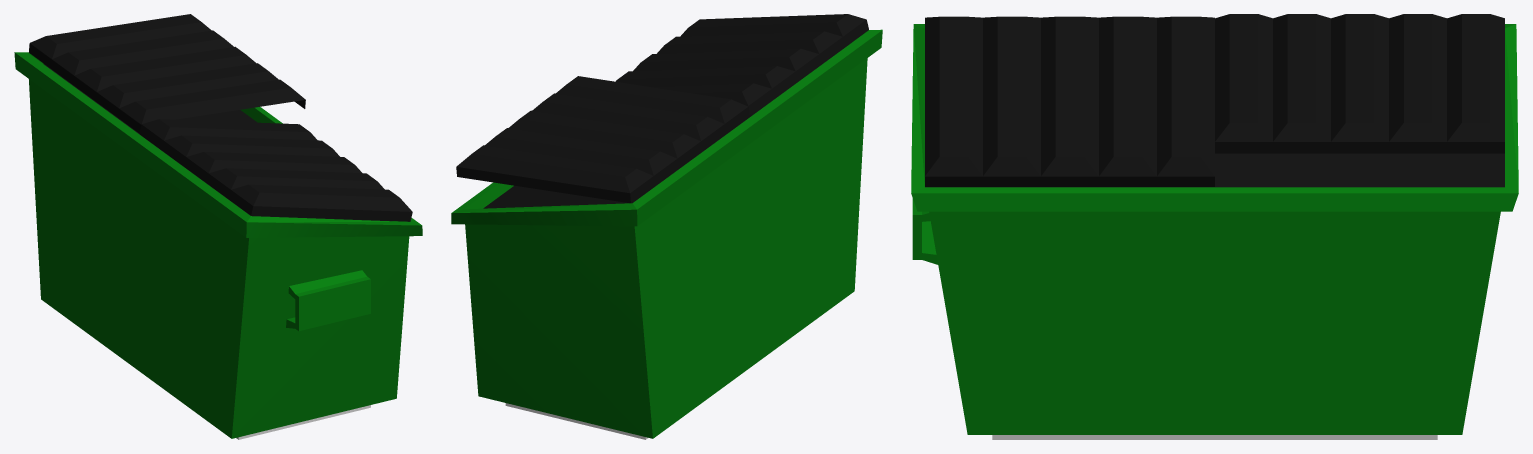
File: Trash.FBX
The picture shows the model from 3 angles, left to right: view 1: azimuth 30°, elevation 25°; view 2: azimuth 150°, elevation 25°; view 3: azimuth 270°, elevation 25°; orthographic projection. The views are drawn at different scales.
Parts seen in each view (by area): view 1: Box124, Group005, Box123; view 2: Box124, Group005; view 3: Box124, Group005, Box123.
Part boxes in pixels (x1,y1,x2,y2): Box124: (14,52,422,438); Group005: (29,14,412,439); Box123: (286,270,370,331); Box124: (451,29,882,438); Group005: (456,14,868,439); Box124: (911,24,1518,434); Group005: (925,14,1504,439); Box123: (912,198,938,264).
Size of the model in its own units: 6.13 by 8.71 by 14.03.
